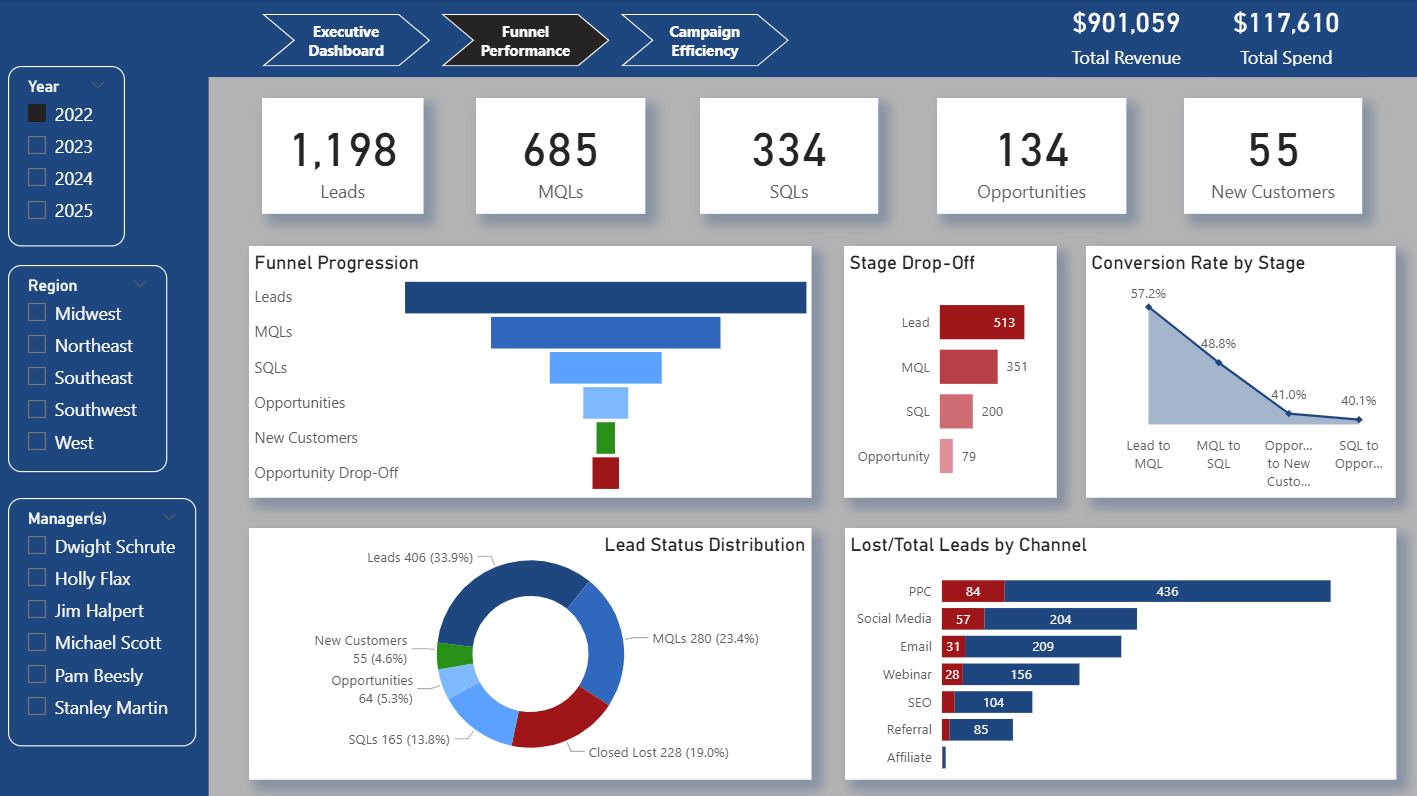

What the dashboard file says about the page in this screenshot:
{"tool":"powerbi","page":{"name":"Funnel Performance","canvas":[1280,720],"ordinal":1},"visuals":[{"type":"shape","box":[0,0,1280,71],"z":0},{"type":"shape","box":[0,0,190,720],"z":1000},{"type":"slicer","fields":{"Values":["Dim_Date.Date.Variation.Date Hierarchy.Year"]},"box":[10,61,105,162],"z":2000},{"type":"slicer","fields":{"Values":["Dim_Region.RegionName"]},"box":[10,240,143,186],"z":3000},{"type":"slicer","fields":{"Values":["Dim_Campaign.OwnerName"]},"box":[10,449,169,223],"z":4000},{"type":"card","fields":{"Values":["Measures (2).Total Revenue"]},"box":[945,0,137,71],"z":5000},{"type":"card","fields":{"Values":["Measures (2).Total Spend"]},"box":[1089,0,137,71],"z":6000},{"type":"pageNavigator","box":[238,14,473,47],"z":7000},{"type":"card","fields":{"Values":["Measures (2).Reached Lead"]},"box":[238,90,145,104],"z":8000},{"type":"card","fields":{"Values":["Measures (2).Reached MQL"]},"box":[430,90,152,104],"z":9000},{"type":"card","fields":{"Values":["Measures (2).Reached SQL"]},"box":[631,90,160,104],"z":10000},{"type":"card","fields":{"Values":["Measures (2).Reached Opportunity"]},"box":[844,90,170,104],"z":11000},{"type":"card","fields":{"Values":["Measures (2).Reached Closed Won"]},"box":[1066,90,160,104],"z":12000},{"type":"funnel","title":"Funnel Progression","fields":{"Y":["Measures (2).Reached Lead","Measures (2).Reached MQL","Measures (2).Reached SQL","Measures (2).Reached Opportunity","Measures (2).Reached Closed Won","Measures (2).Opportunity Drop-Off"]},"box":[226.2,222.6,505.4,226.2],"z":13000},{"type":"donutChart","title":"Lead Status Distribution","fields":{"Y":["Measures (2).Total Leads"],"Category":["Dim_Lead_Status.LeadStatus"]},"box":[226.2,475.8,505.4,226.2],"z":14000},{"type":"barChart","title":"Lost/Total Leads by Channel","fields":{"Category":["Dim_Channel.ChannelName"],"Y":["Measures (2).Closed Lost","Measures (2).Total Leads"]},"box":[761.3,475.8,494.7,226.2],"z":15000},{"type":"clusteredBarChart","title":"Stage Drop-Off","fields":{"Category":["Dropoff_Stage.Stage"],"Y":["Measures (2).Drop-Off Selected Stage"]},"box":[760.4,222.6,191.2,226.2],"z":16000},{"type":"textbox","box":[474.9,475.8,255.9,29.6],"z":17000},{"type":"areaChart","title":"Conversion Rate by Stage","fields":{"Category":["Conversion_Stage.Stage"],"Y":["Measures (2).Selected Conversion Rate"]},"box":[977.7,222.6,278.3,226.2],"z":18000}]}

Visuals, with their boxes in screenshot pixels (x1, y1, x2, y2), scaled from the page's 1280x720 canvas onto the 1417x796 screenshot:
shape: 0, 0, 1416, 78
shape: 0, 0, 210, 795
slicer - Dim_Date.Date.Variation.Date Hierarchy.Year: 11, 67, 127, 247
slicer - Dim_Region.RegionName: 11, 265, 169, 471
slicer - Dim_Campaign.OwnerName: 11, 496, 198, 743
card - Measures (2).Total Revenue: 1046, 0, 1198, 78
card - Measures (2).Total Spend: 1206, 0, 1357, 78
pageNavigator: 263, 15, 787, 67
card - Measures (2).Reached Lead: 263, 100, 424, 214
card - Measures (2).Reached MQL: 476, 100, 644, 214
card - Measures (2).Reached SQL: 699, 100, 876, 214
card - Measures (2).Reached Opportunity: 934, 100, 1123, 214
card - Measures (2).Reached Closed Won: 1180, 100, 1357, 214
"Funnel Progression" funnel: 250, 246, 810, 496
"Lead Status Distribution" donutChart: 250, 526, 810, 776
"Lost/Total Leads by Channel" barChart: 843, 526, 1390, 776
"Stage Drop-Off" clusteredBarChart: 842, 246, 1053, 496
textbox: 526, 526, 809, 559
"Conversion Rate by Stage" areaChart: 1082, 246, 1390, 496
